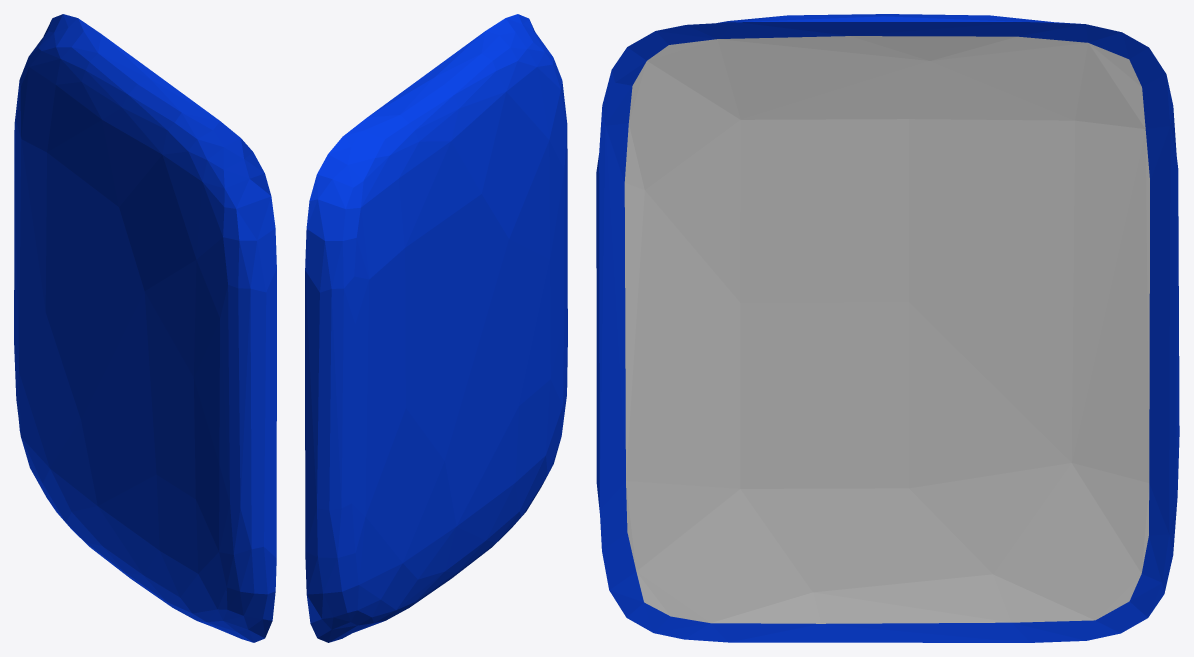
File: board.fbx
3 views of the same model, side by side, from view 1: azimuth 30°, elevation 25°; view 2: azimuth 150°, elevation 25°; view 3: azimuth 270°, elevation 25° (orthographic). The views are drawn at different scales.
Visible parts, largest first — view 1: Cube; view 2: Cube; view 3: Cube.
Boxes of the visible parts, <box> form: Cube: <box>14,14,276,642</box>; Cube: <box>305,14,567,642</box>; Cube: <box>596,14,1179,642</box>.
Bounding box in the file's own units: 291 × 2771 × 2358.
